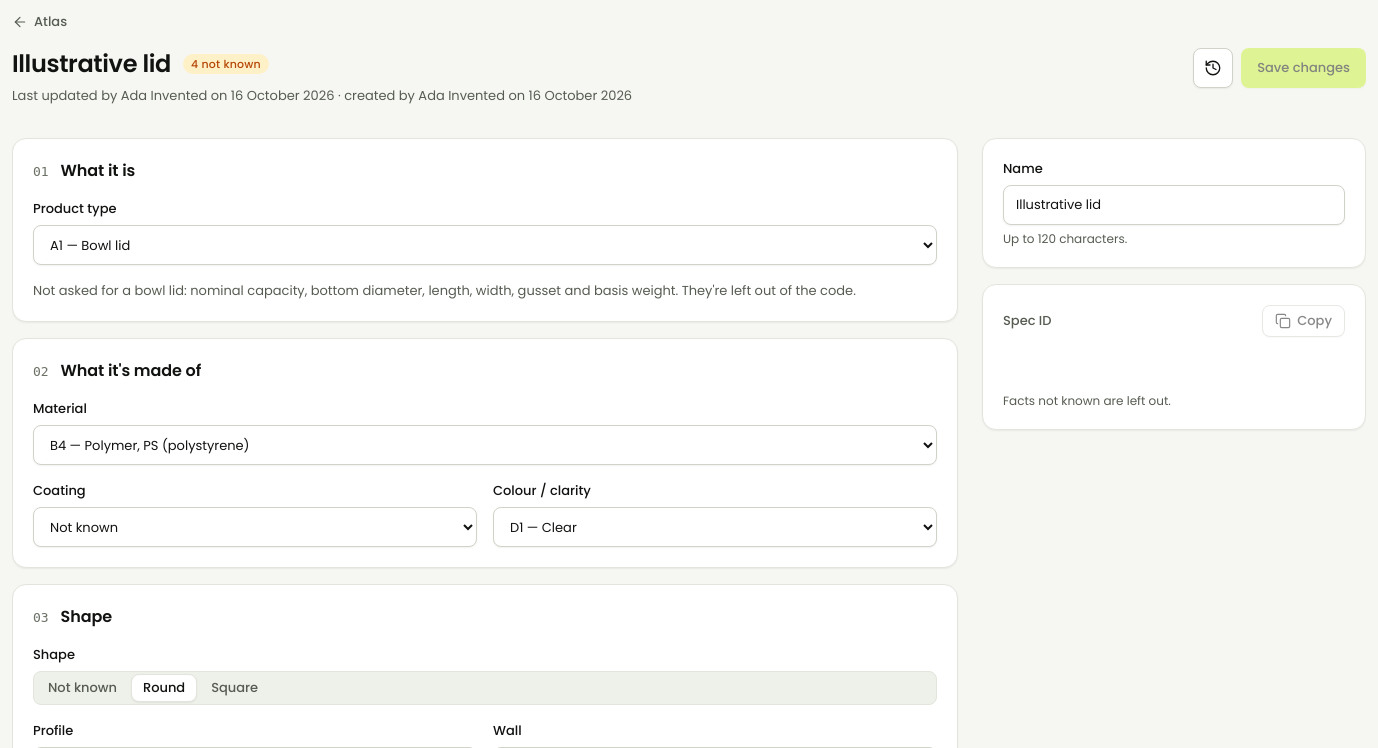
it: SpecIdEditor, Save changes › says only "Saved." when the code did not change
Replace the text in the field labelled "Name" with "Big lid" at (1174, 205), box [1003, 185, 1345, 225]
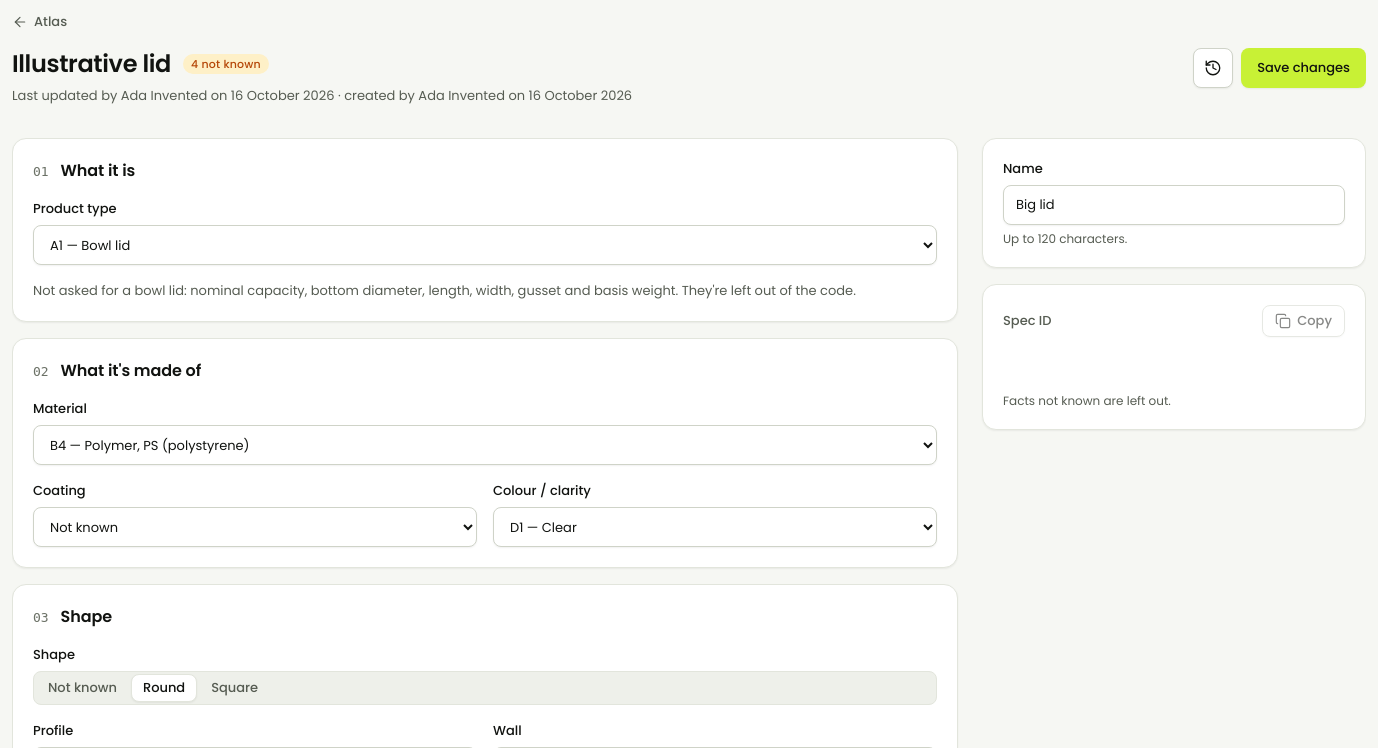
Click the button "Save changes" at (1304, 68), box [1241, 48, 1366, 88]
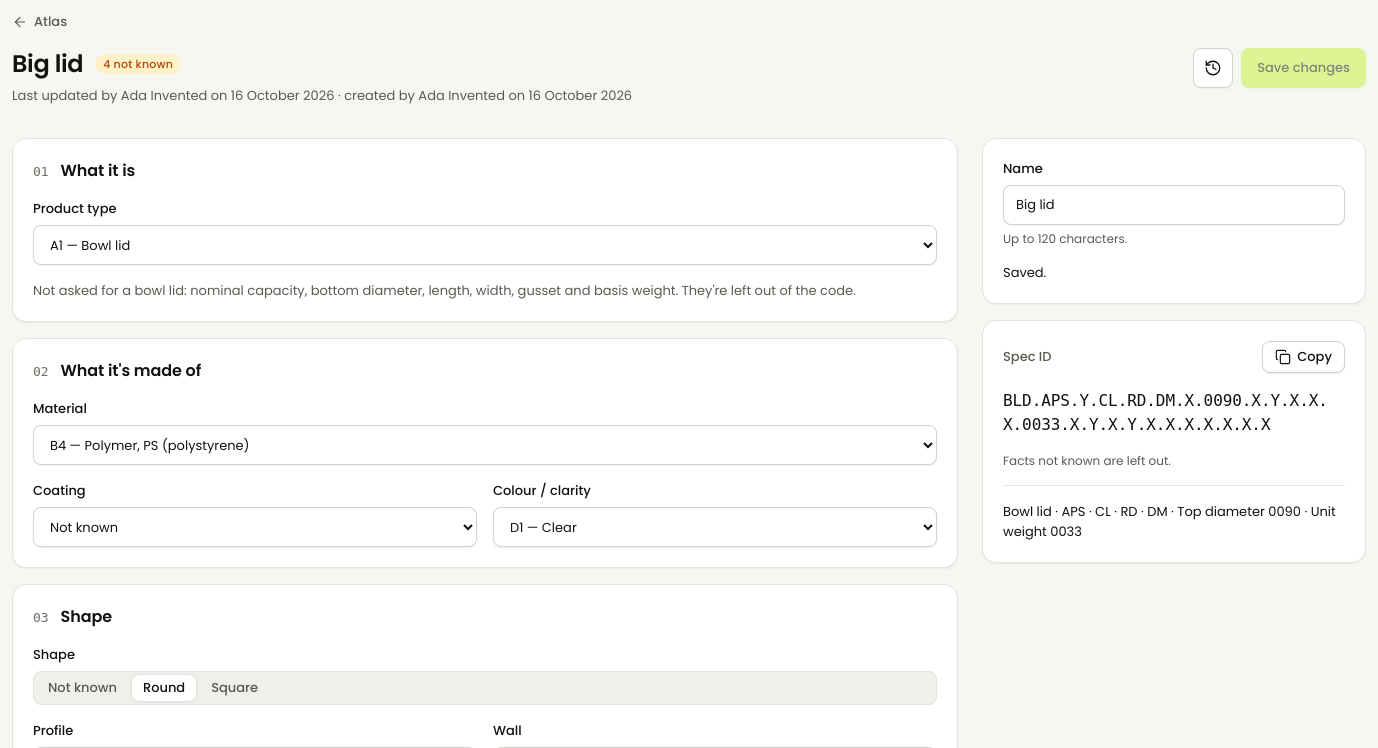
Now the text "Saved." is shown, box [1003, 263, 1046, 282]
Now the heading "Big lid" is shown, box [12, 48, 83, 80]
